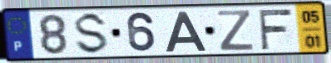6: (126, 12, 158, 54)
8: (37, 13, 69, 56)
A: (164, 10, 209, 53)
F: (256, 7, 294, 51)
S: (73, 11, 111, 57)
Z: (216, 9, 255, 53)
